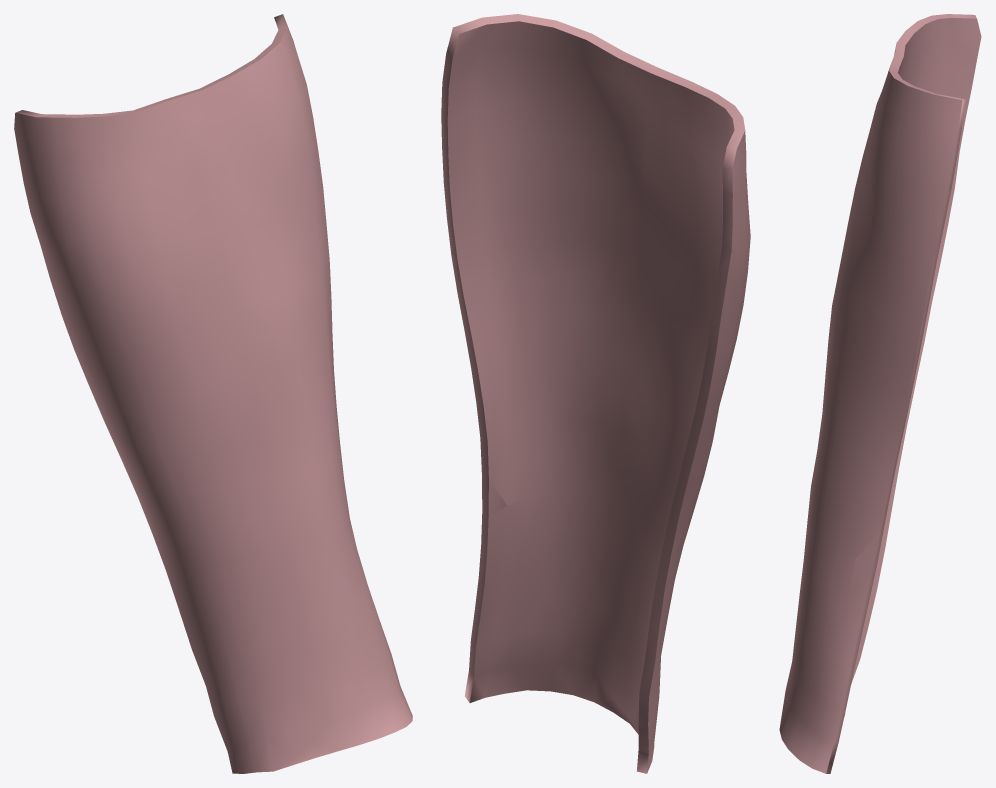
3 views of the same model, side by side, from view 1: azimuth 30°, elevation 25°; view 2: azimuth 150°, elevation 25°; view 3: azimuth 270°, elevation 25° (orthographic). The views are drawn at different scales.
Visible parts, largest first — view 1: ZA_f324264a639af52a; view 2: ZA_f324264a639af52a; view 3: ZA_f324264a639af52a.
Boxes of the visible parts, left/top/right/bottom form: ZA_f324264a639af52a: left=14, top=14, right=412, bottom=773; ZA_f324264a639af52a: left=441, top=14, right=750, bottom=773; ZA_f324264a639af52a: left=779, top=14, right=981, bottom=773.
Bounding box in the file's own units: 0.1153 × 0.2361 × 0.0648.
